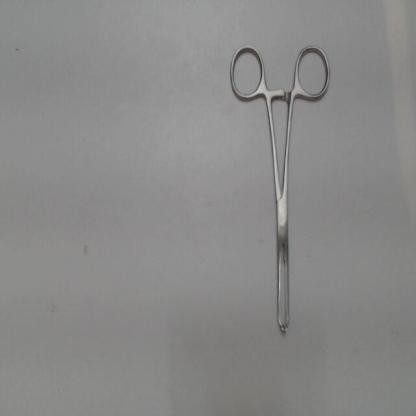Allis Tissue Forceps: (223, 40, 338, 348)
